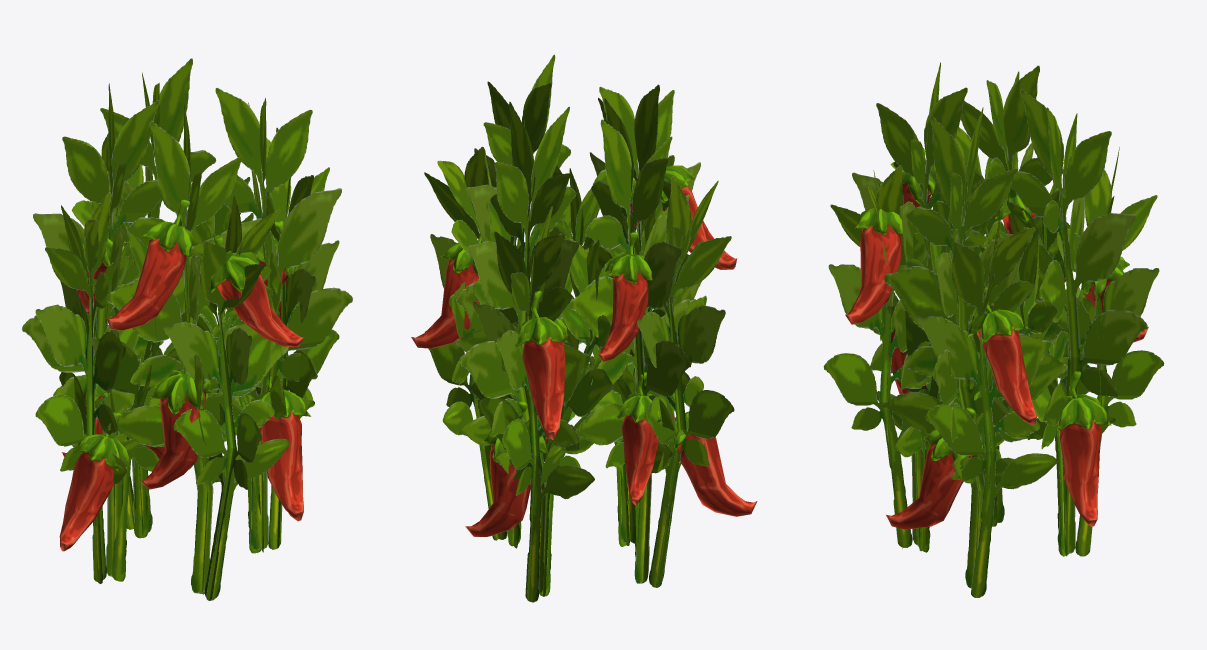
The model's file is Pepper_Step03.fbx.
The picture shows the model from 3 angles, left to right: view 1: azimuth 30°, elevation 25°; view 2: azimuth 150°, elevation 25°; view 3: azimuth 270°, elevation 25°; orthographic projection.
Visible parts, largest first — view 1: Pepper_Step03; view 2: Pepper_Step03; view 3: Pepper_Step03.
Part boxes in pixels (box(x1,y1,x2,y2)): Pepper_Step03: box(22, 58, 352, 600); Pepper_Step03: box(411, 54, 757, 602); Pepper_Step03: box(823, 62, 1164, 597).
Bounding box in the file's own units: 199 × 279 × 194.
